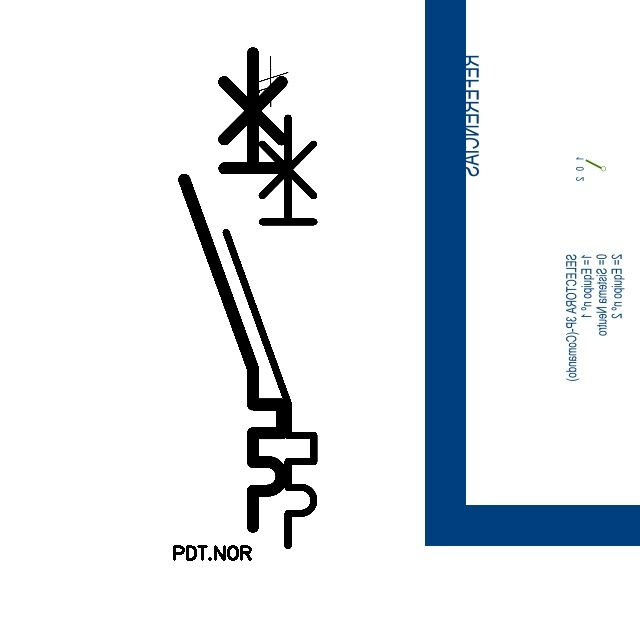interruptor_termomagnetico: (172, 41, 294, 539), (215, 106, 325, 556)
